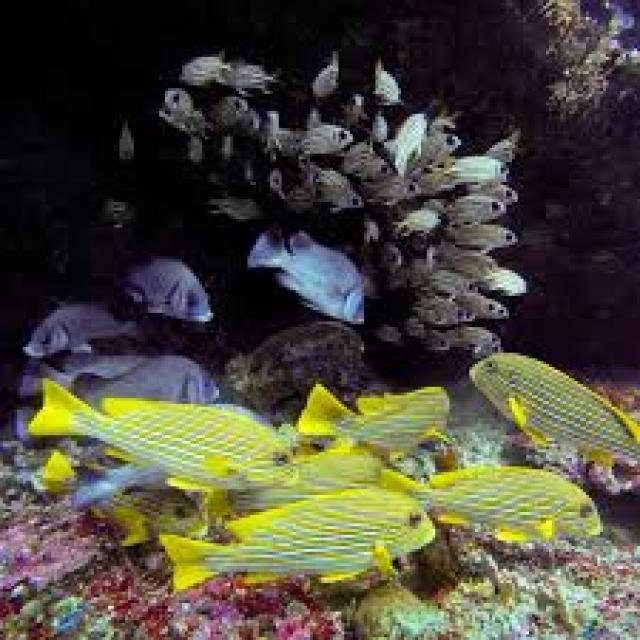RibbonedSweetlips: (26, 377, 298, 492), (158, 486, 435, 596), (469, 352, 640, 467), (378, 466, 603, 542), (296, 381, 454, 461)
